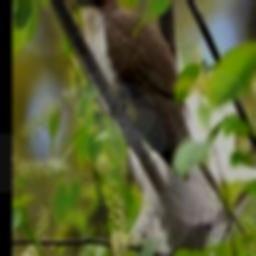Cuckoo: (69, 0, 246, 235)
